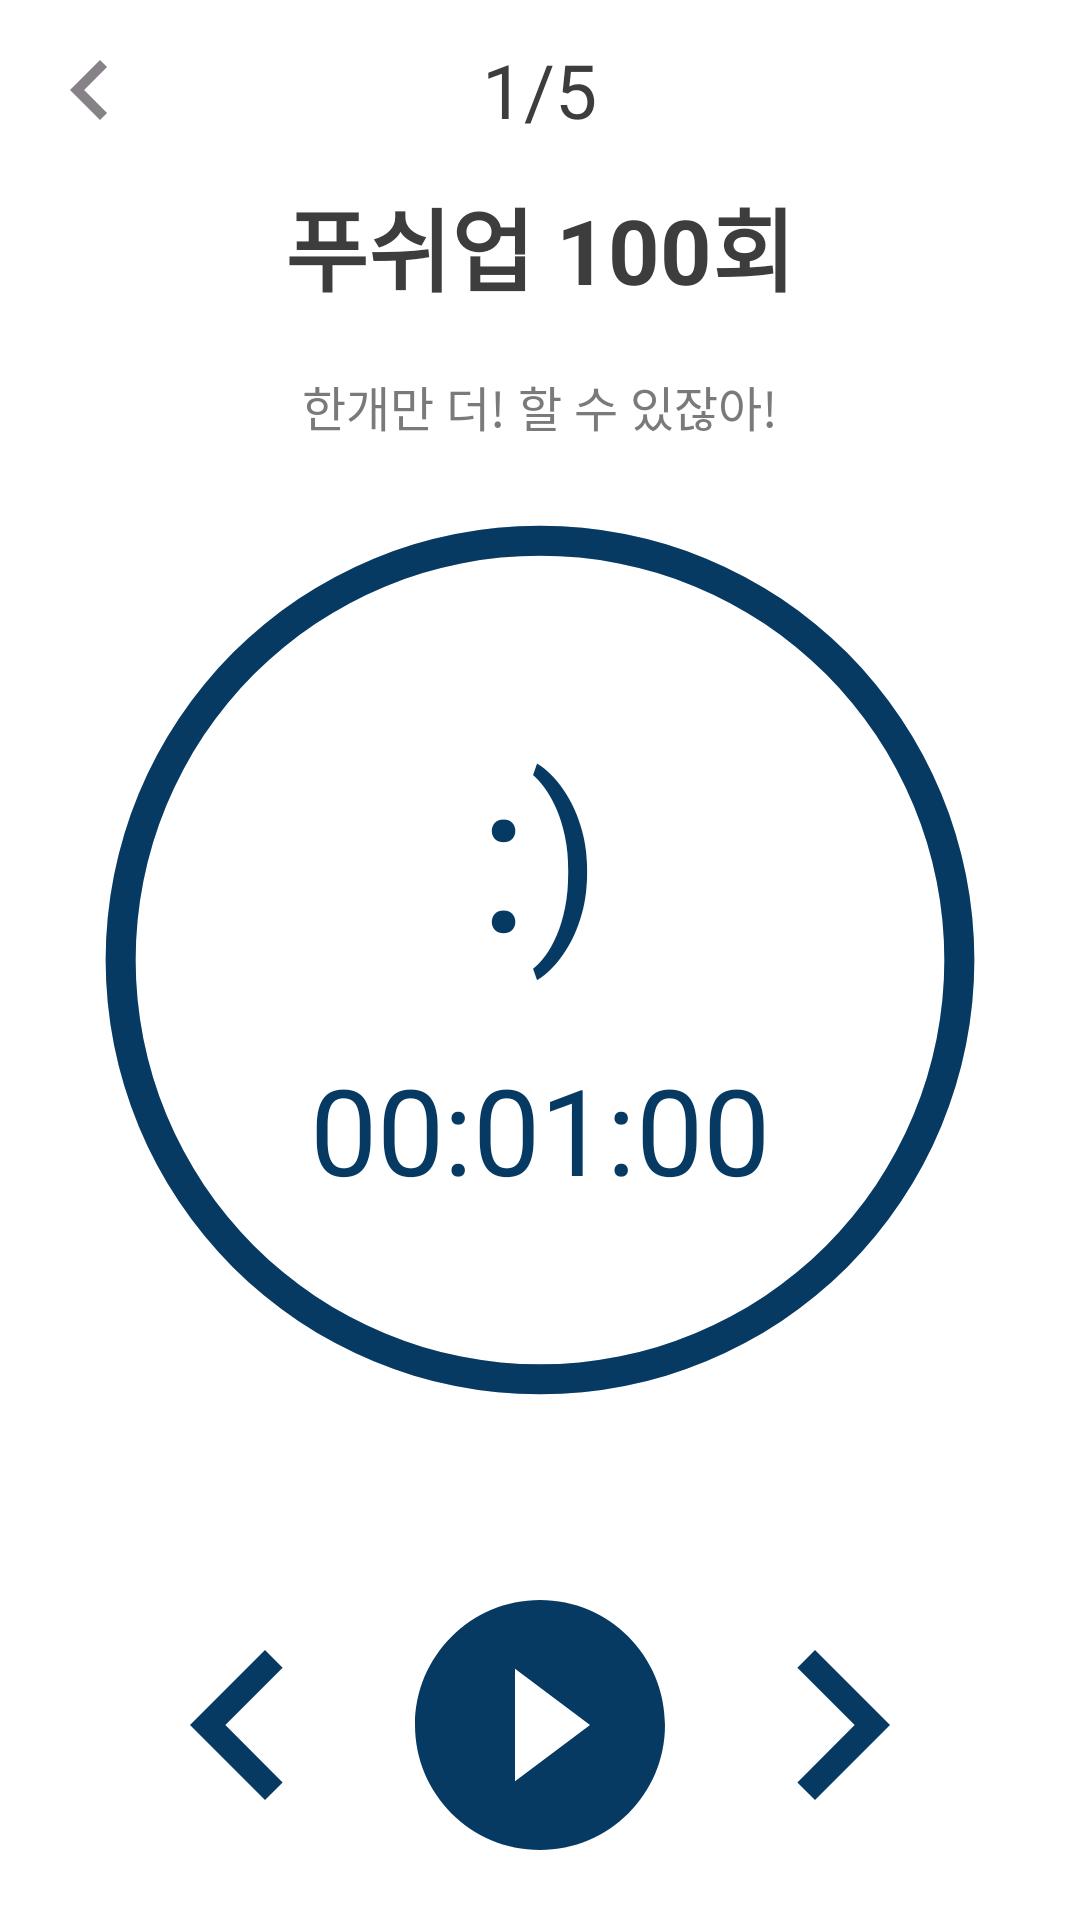

Icon click points for this 1080*1920 phone screenshot, format point (x, y):
chevron left: point (88, 90), point (236, 1725)
keyboard arrow right: point (843, 1725)
play circle: point (540, 1725)
